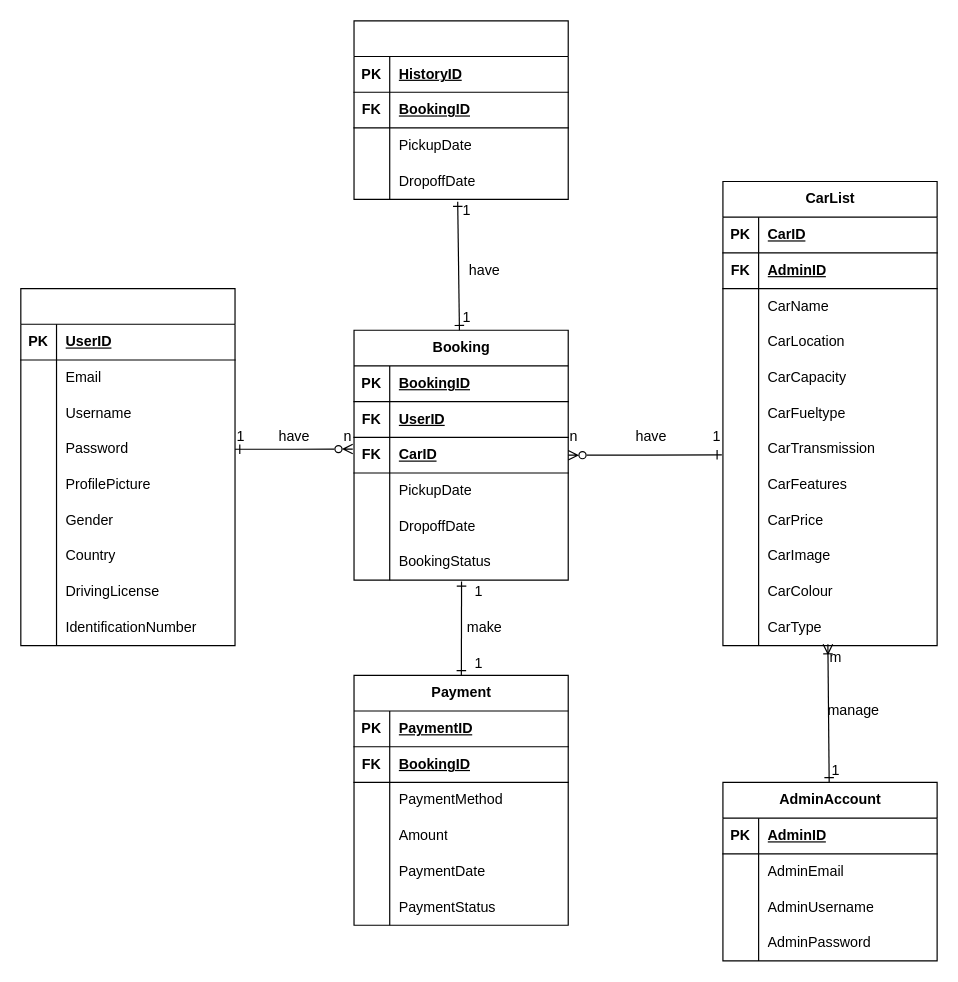
The diagram is 958 pixels wide and 982 high, and some of its shapes have lost their labels. The shapes that lost their labels are listed below. From the top down, each one's box as (x1, y1, x2, y2) in pixels, then its label:
(353, 20, 568, 199): BookingHistory
(20, 287, 235, 646): UserAccount
